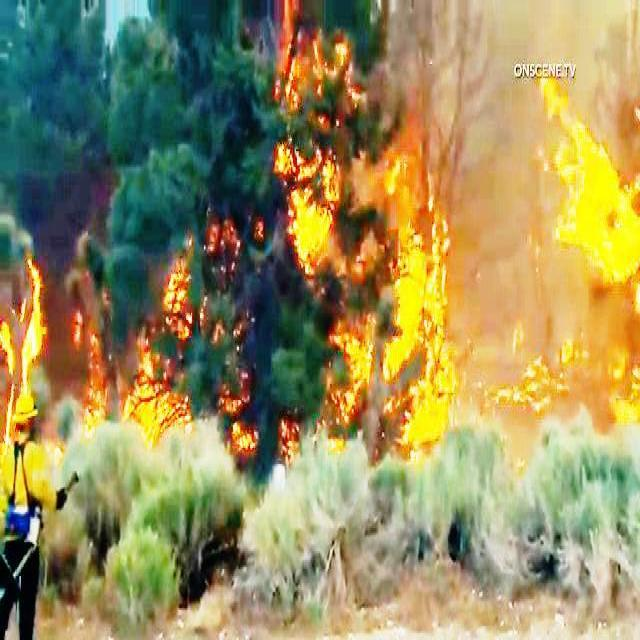Fire: (291, 148, 459, 424), (558, 95, 640, 303), (127, 354, 184, 440)
